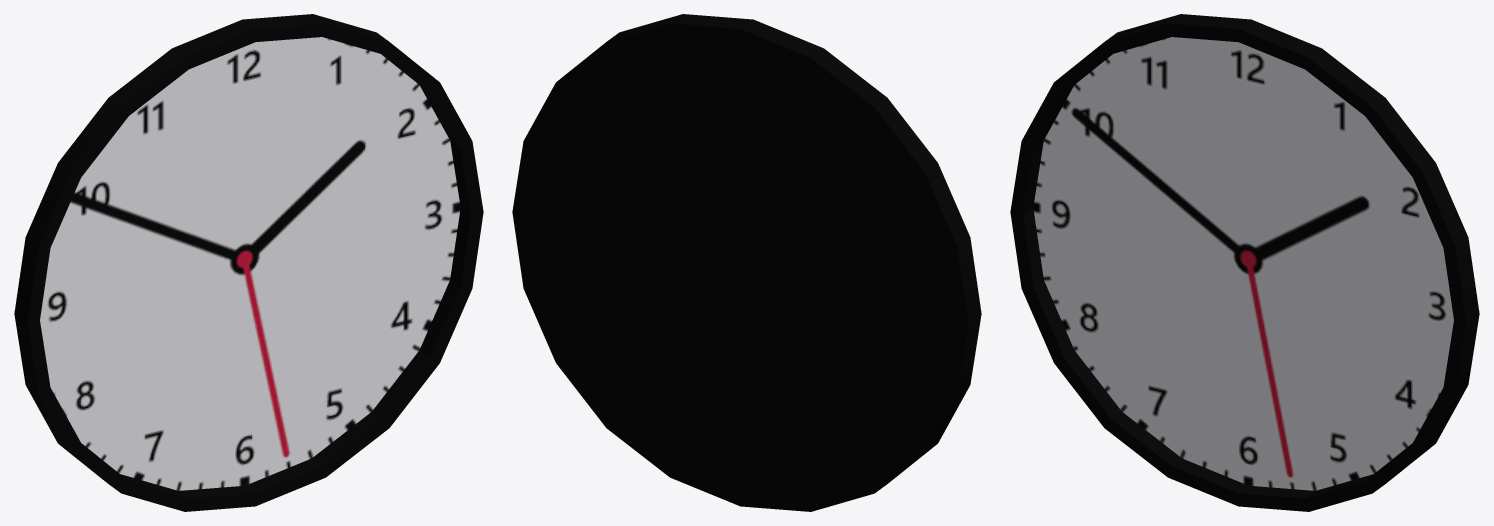
File: Clock.fbx
The picture shows the model from 3 angles, left to right: view 1: azimuth 30°, elevation 25°; view 2: azimuth 150°, elevation 25°; view 3: azimuth 330°, elevation 25°; orthographic projection.
Parts seen in each view (by area): view 1: pCylinder7; view 2: pCylinder7; view 3: pCylinder7.
Part boxes in pixels (x1,y1,x2,y2): pCylinder7: (14,14,483,511); pCylinder7: (512,14,981,511); pCylinder7: (1010,14,1479,511).
Bounding box in the file's own units: 11.12 × 11.12 × 0.5499.
Materials: 2 (1 with a texture image).
